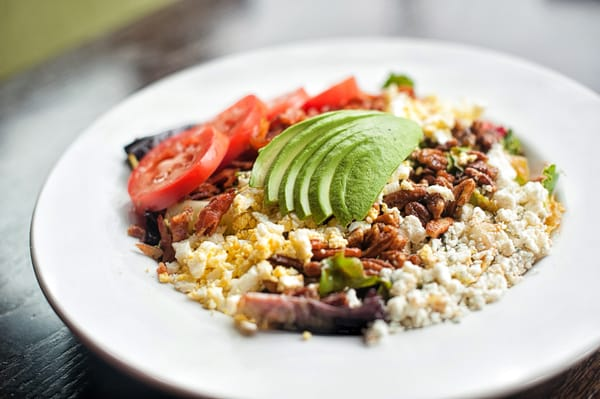curry: (4, 2, 596, 395)
